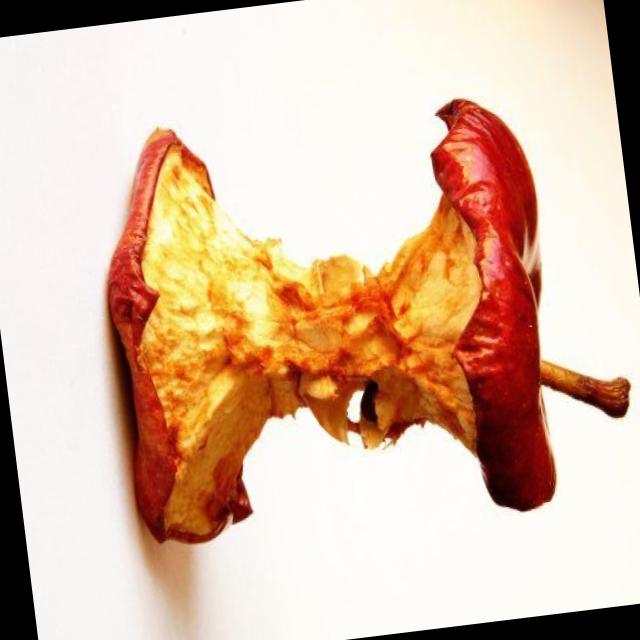apple_fruit: (77, 89, 568, 561)
